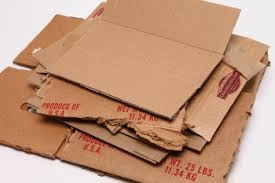paper: (1, 66, 247, 183), (36, 1, 240, 120), (24, 80, 225, 168)
